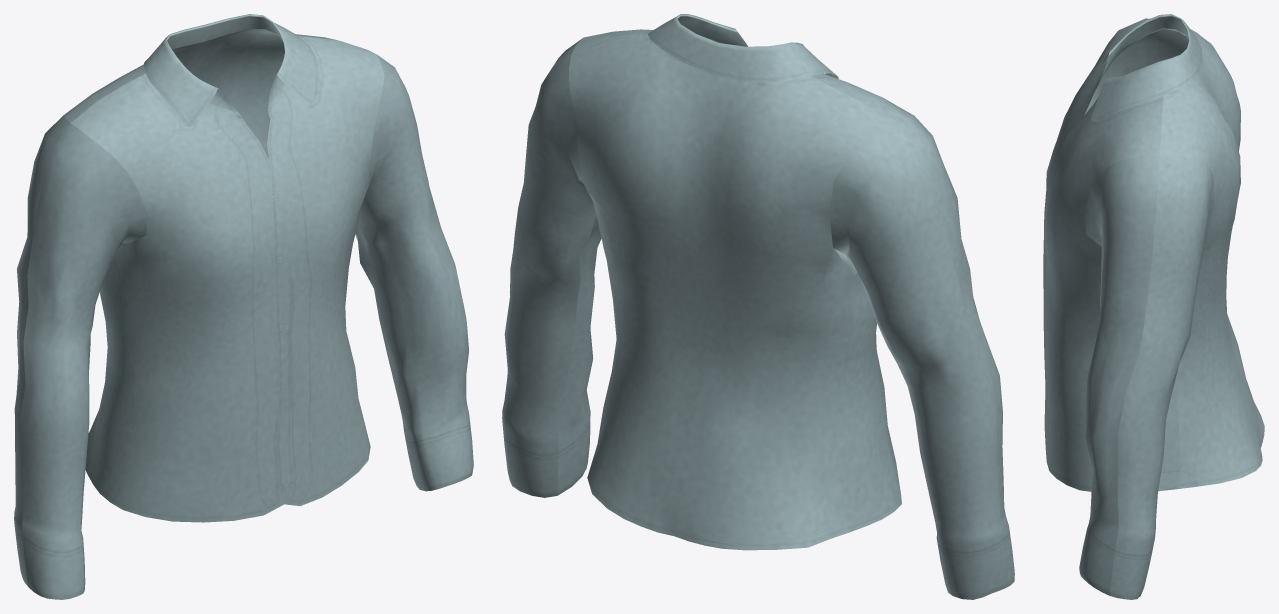
The model's file is clothing_shirt.glb.
3 renders of one model, left to right at view 1: azimuth 30°, elevation 25°; view 2: azimuth 150°, elevation 25°; view 3: azimuth 270°, elevation 25°, orthographic. The views are drawn at different scales.
Visible parts, largest first — view 1: Cloth_shirt; view 2: Cloth_shirt; view 3: Cloth_shirt.
Part boxes in pixels (x1,y1,x2,y2): Cloth_shirt: (14,14,473,599); Cloth_shirt: (502,14,1014,599); Cloth_shirt: (1043,14,1264,599).
Bounding box in the file's own units: 0.6594 × 0.685 × 0.2943.
Materials: 1 (1 with a texture image).
